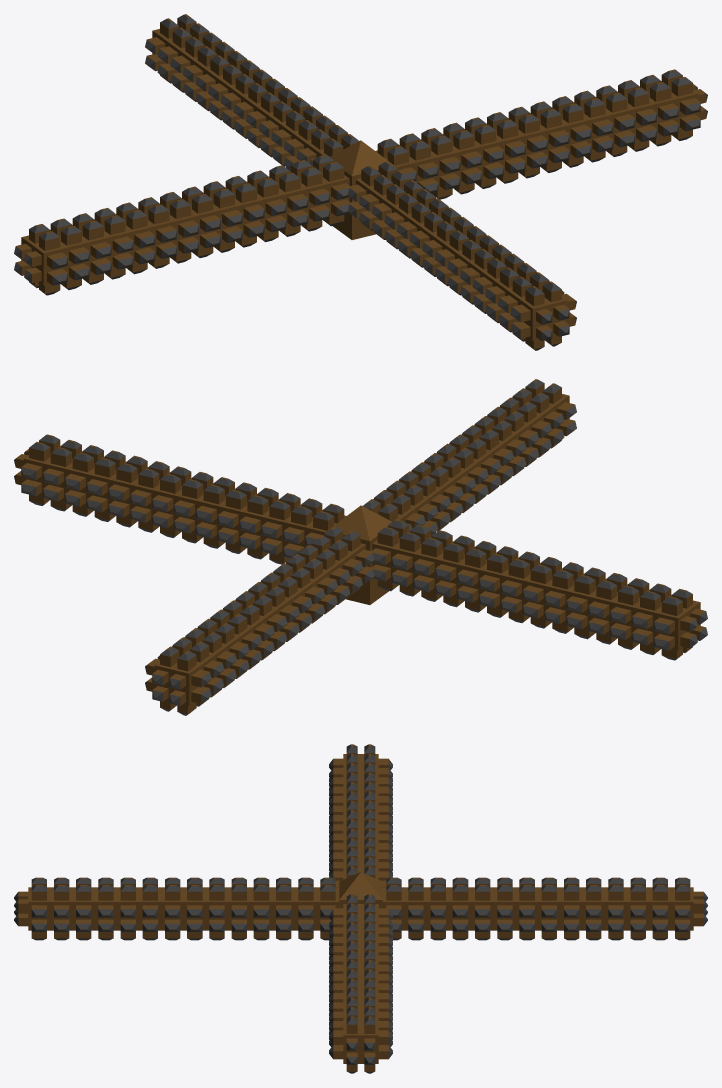
File: Girador.fbx
3 views of the same model, one above another, from view 1: azimuth 30°, elevation 25°; view 2: azimuth 150°, elevation 25°; view 3: azimuth 270°, elevation 25° (orthographic). The views are drawn at different scales.
Parts seen in each view (by area): view 1: Cube; view 2: Cube; view 3: Cube.
Boxes of the visible parts, left/top/right/bottom form: Cube: left=14, top=14, right=707, bottom=350; Cube: left=14, top=379, right=707, bottom=715; Cube: left=14, top=744, right=707, bottom=1073.
Size of the model in its own units: 2232 by 268 by 2232.
1 material, 1 textured.
